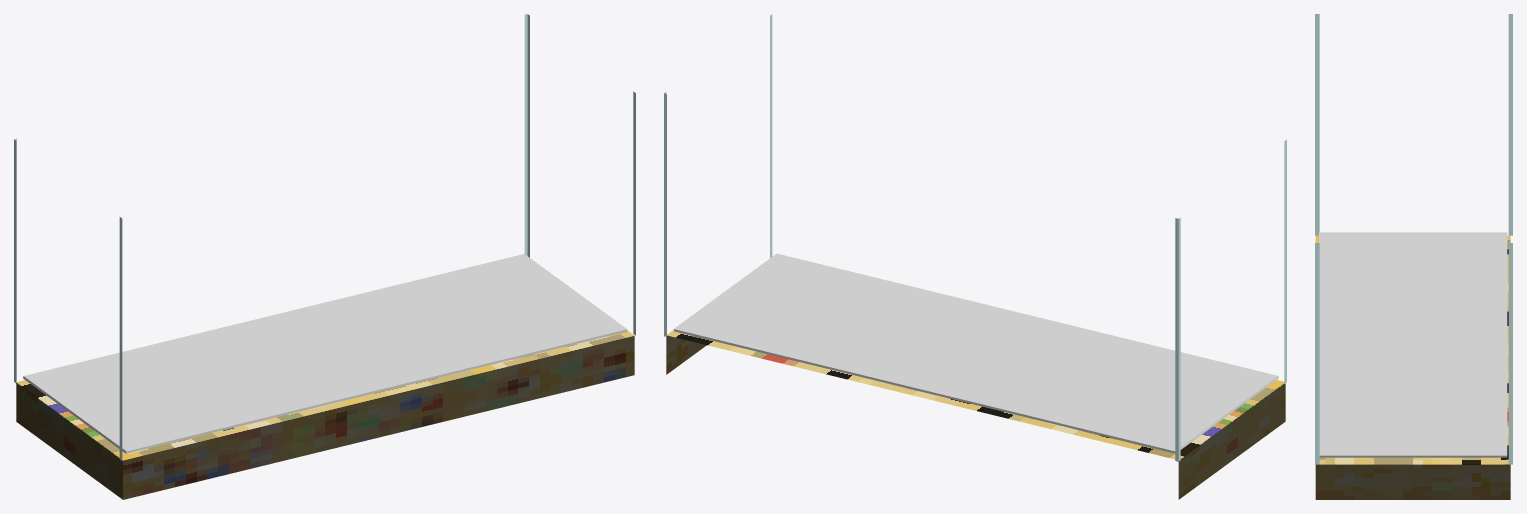
The model's file is tank.fbx.
3 renders of one model, left to right at view 1: azimuth 30°, elevation 25°; view 2: azimuth 150°, elevation 25°; view 3: azimuth 270°, elevation 25°, orthographic. The views are drawn at different scales.
Parts seen in each view (by area): view 1: Plane.002, Plane, Plane.001; view 2: Plane.002, Plane, Plane.001; view 3: Plane.002, Plane, Plane.001.
Boxes of the visible parts, <box> form: Plane.002: <box>23,254,627,453</box>; Plane: <box>16,330,634,499</box>; Plane.001: <box>14,14,635,460</box>; Plane.002: <box>673,253,1278,453</box>; Plane: <box>666,330,1285,499</box>; Plane.001: <box>664,14,1286,461</box>; Plane.002: <box>1319,232,1507,457</box>; Plane: <box>1315,235,1510,499</box>; Plane.001: <box>1315,14,1512,464</box>.
Bounding box in the file's own units: 2717 × 1425 × 991.
Materials: 3 (2 with a texture image).
